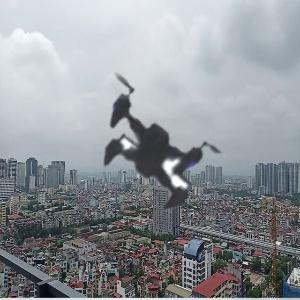drone: (36, 34, 273, 271)
